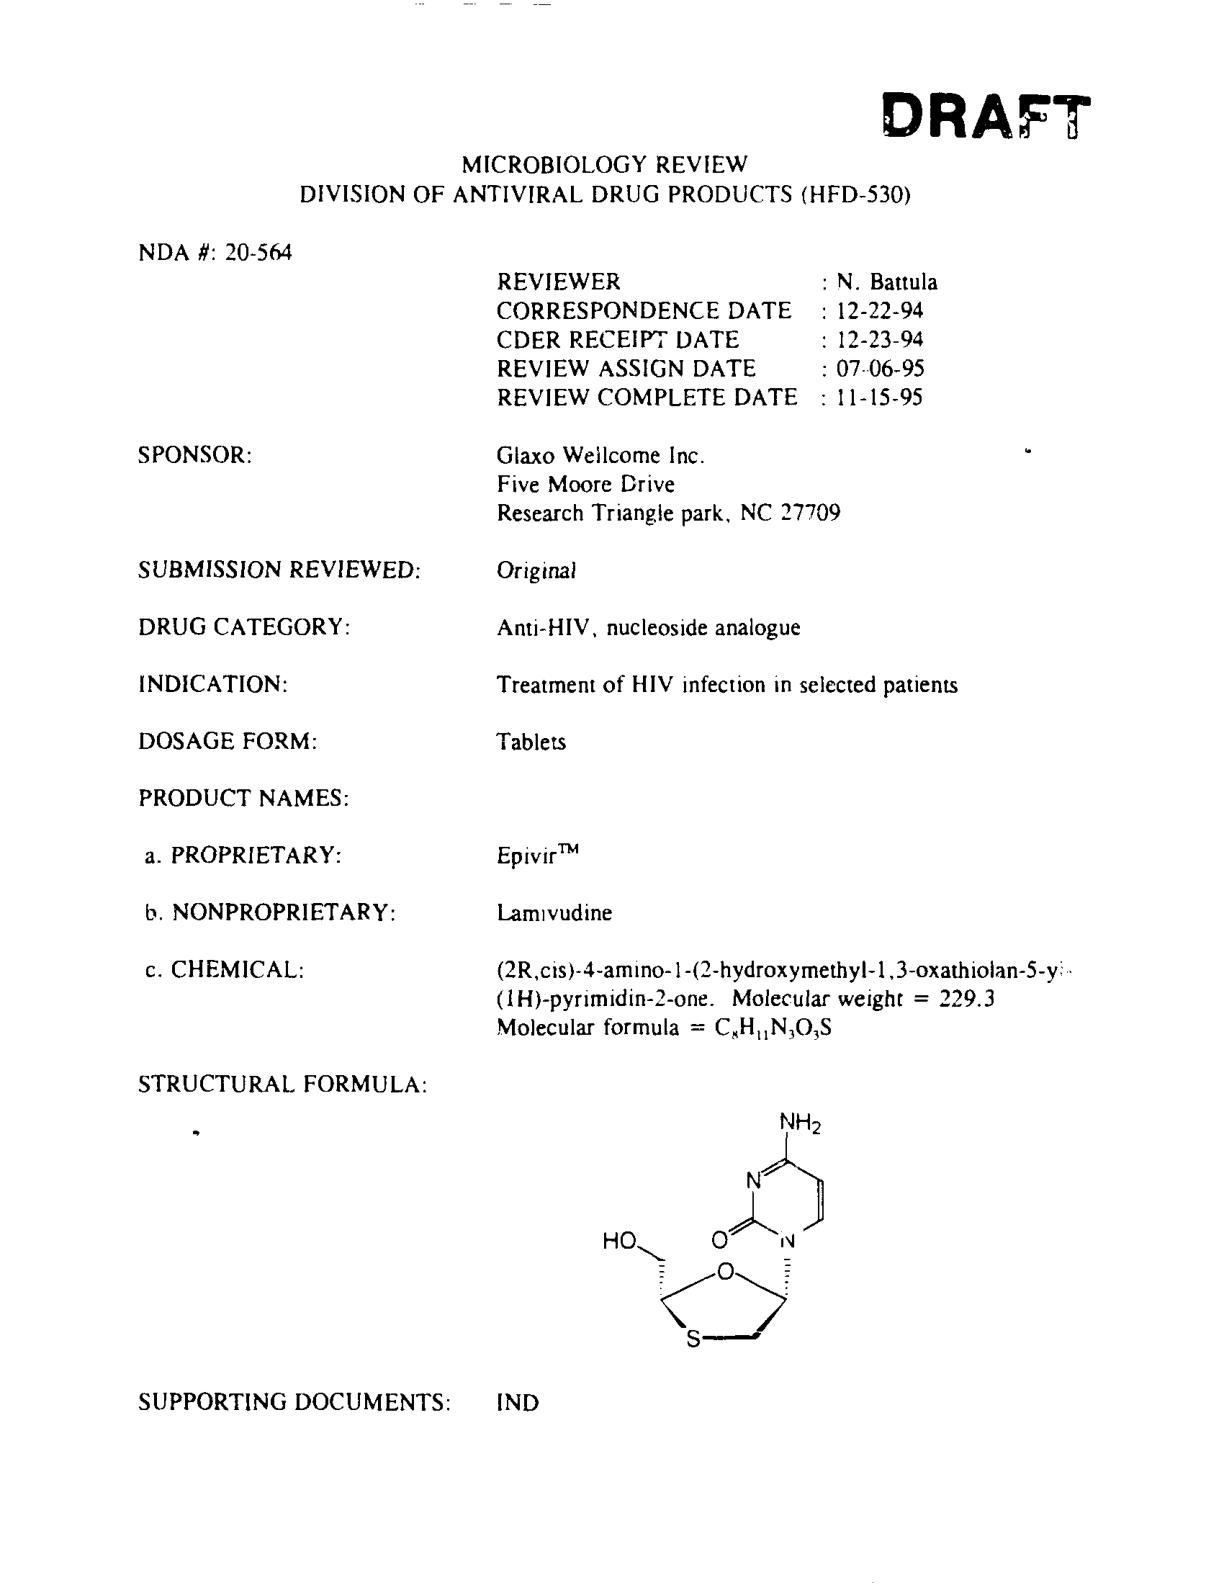nolines: (132, 235, 1065, 1411)
